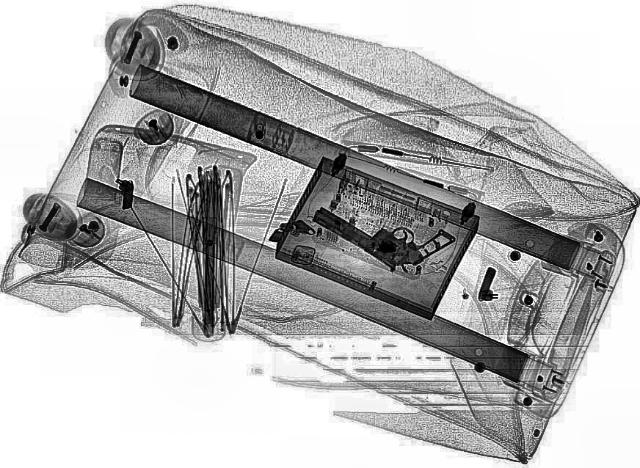Gun: (304, 178, 458, 278)
